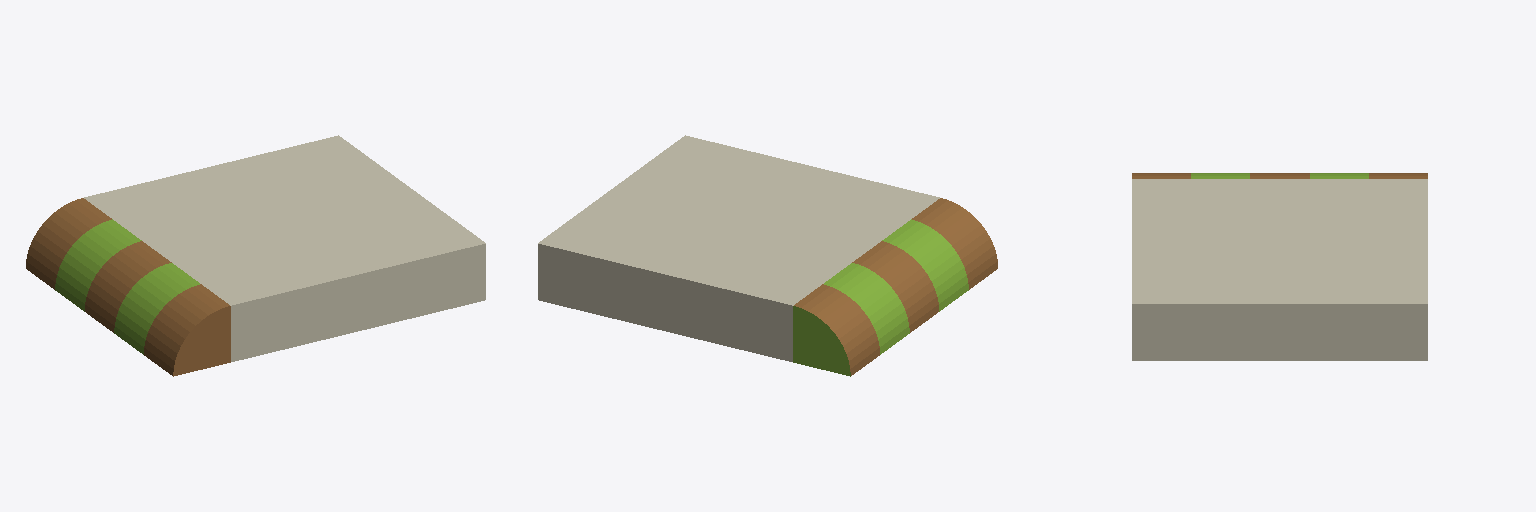
Rendered from basement_between.obj.
The picture shows the model from 3 angles: view 1: azimuth 30°, elevation 25°; view 2: azimuth 150°, elevation 25°; view 3: azimuth 270°, elevation 25°; orthographic projection.
Visible parts, largest first — view 1: basement_between; view 2: basement_between; view 3: basement_between.
Boxes of the visible parts, x1,y1,x2,y2 form: basement_between: [26, 135, 485, 376]; basement_between: [538, 135, 997, 376]; basement_between: [1132, 173, 1427, 360].
Bounding box in the file's own units: 1.23 × 0.2125 × 1.